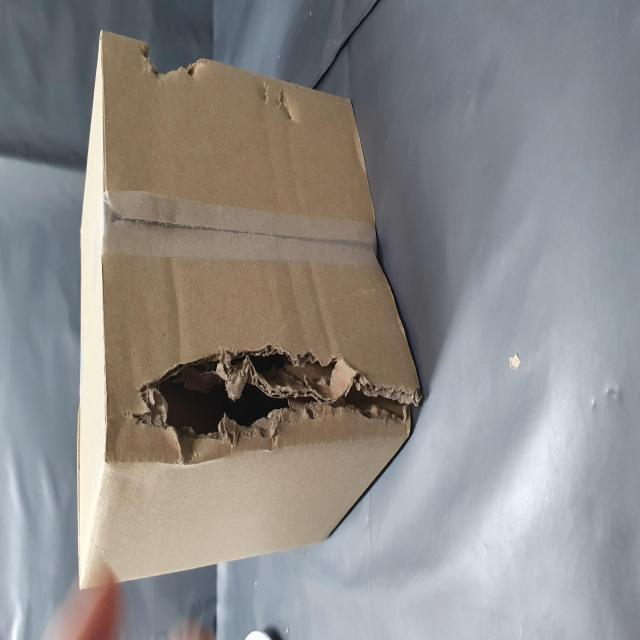damaged: (94, 228, 173, 640)
